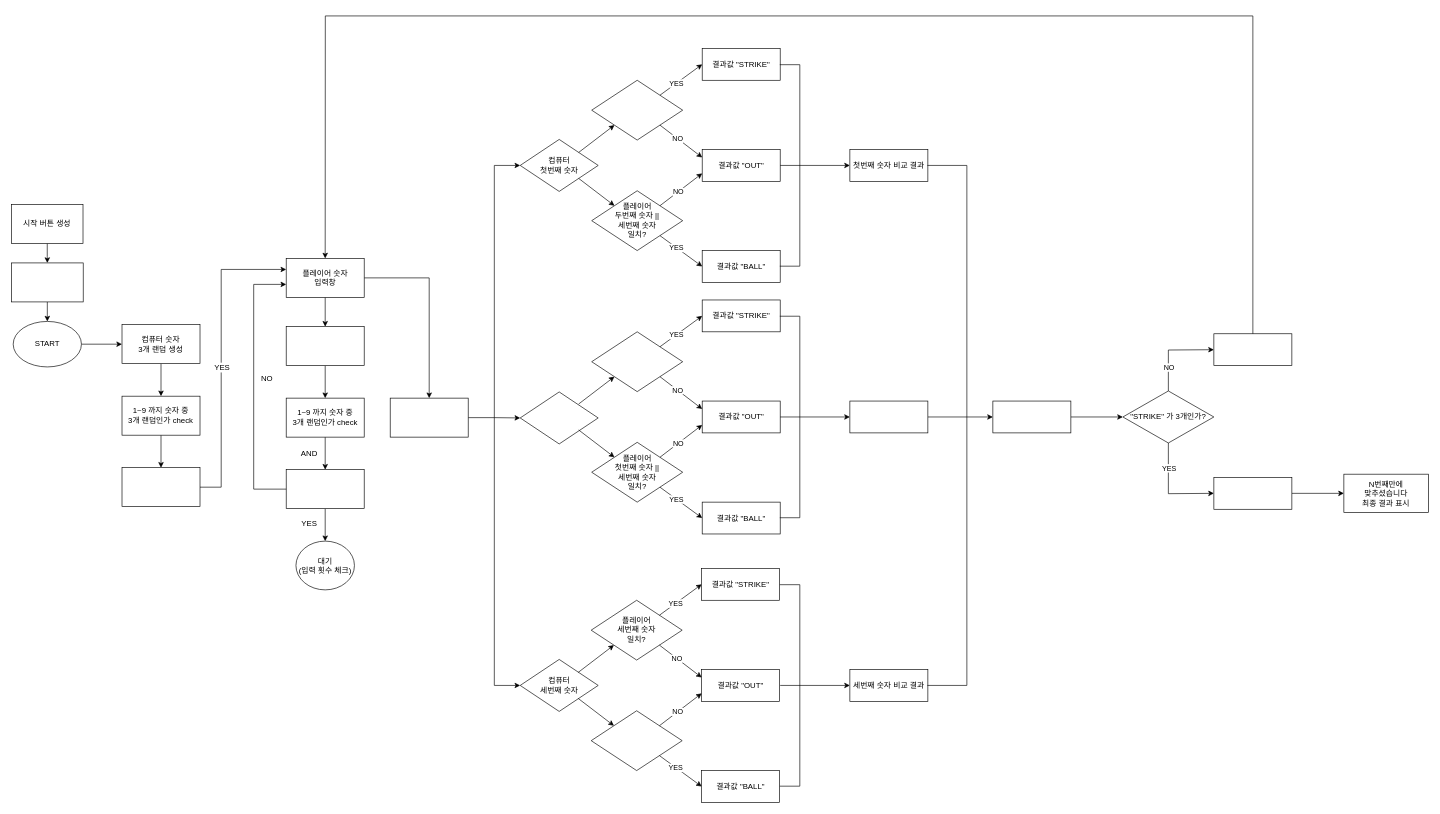
Image size: 1440x814. Some labels were removed from this diagram. Here are the shapes that lost their labels. From the top down, the centre of each, then its label:
point 637,110: 플레이어 첫번째 숫자 일치?
point 47,282: 버튼 누르기
point 325,346: 플레이어 3개 숫자 입력
point 637,361: 플레이어 두번째 숫자 일치?
point 1252,349: "BALL" or "OUT" 횟수 표기
point 429,417: 컴퓨터 입력 숫자와 플레이어 입력 숫자 일치 비교 확인
point 559,417: 컴퓨터 두번째 숫자
point 888,416: 두번째 숫자 비교 결과
point 1031,416: 비교 결과 취합
point 160,487: 3개 랜덤 숫자 중 같지 않은 숫자로들만 이루어져 있는가
point 325,489: 3개 입력 숫자가 같지 않은 숫자로만 이루어져 있는가
point 1252,493: 반복 횟수 체크
point 636,740: 플레이어 첫번째 숫자 || 두번째 숫자 일치?
